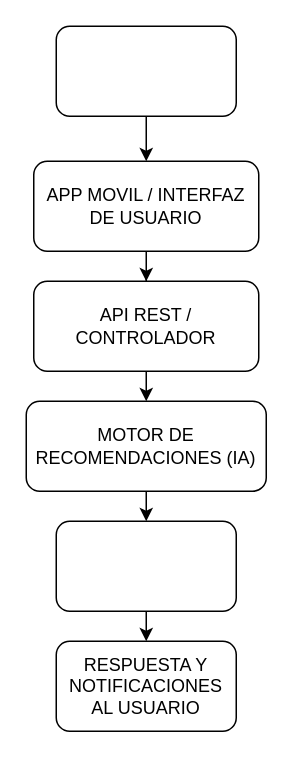
Image size: 293x758. Some labels were removed from this diagram. The centre of each missing label's shape, as x and y in pixels:
BASE DE DATOS: point (145, 565)
USUARIO: point (145, 70)
